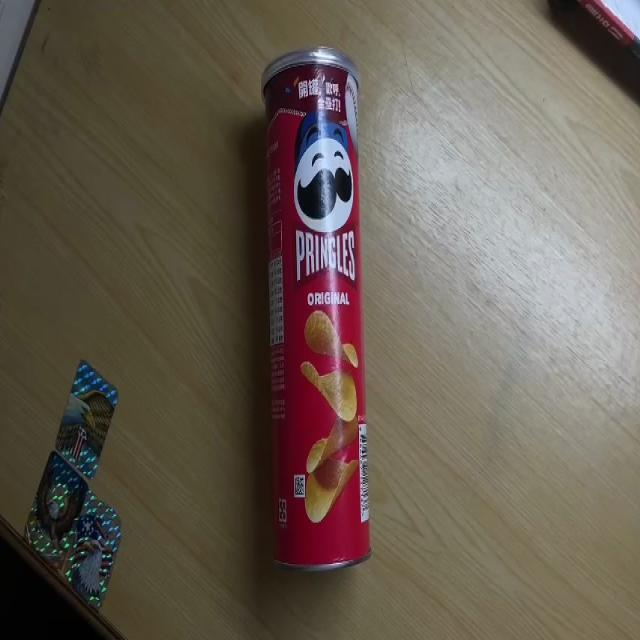Pringles: (262, 45, 374, 572)
